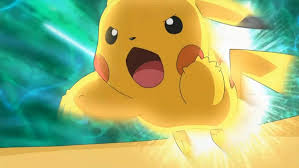pikachu: (58, 1, 296, 163)
